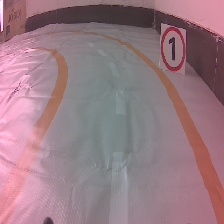limit: (158, 20, 190, 79)
